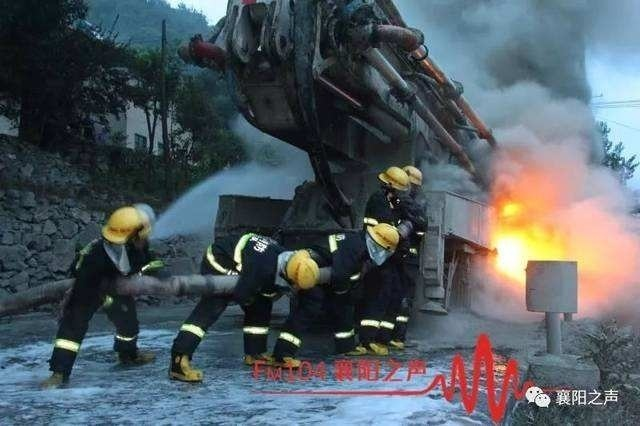fire: (486, 201, 566, 280)
